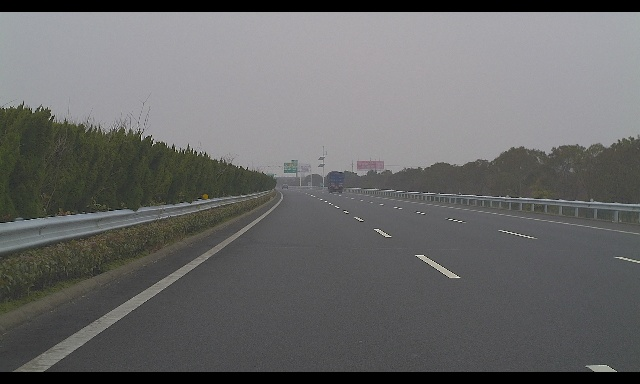car: (282, 184, 288, 189)
truck: (326, 171, 345, 194)
